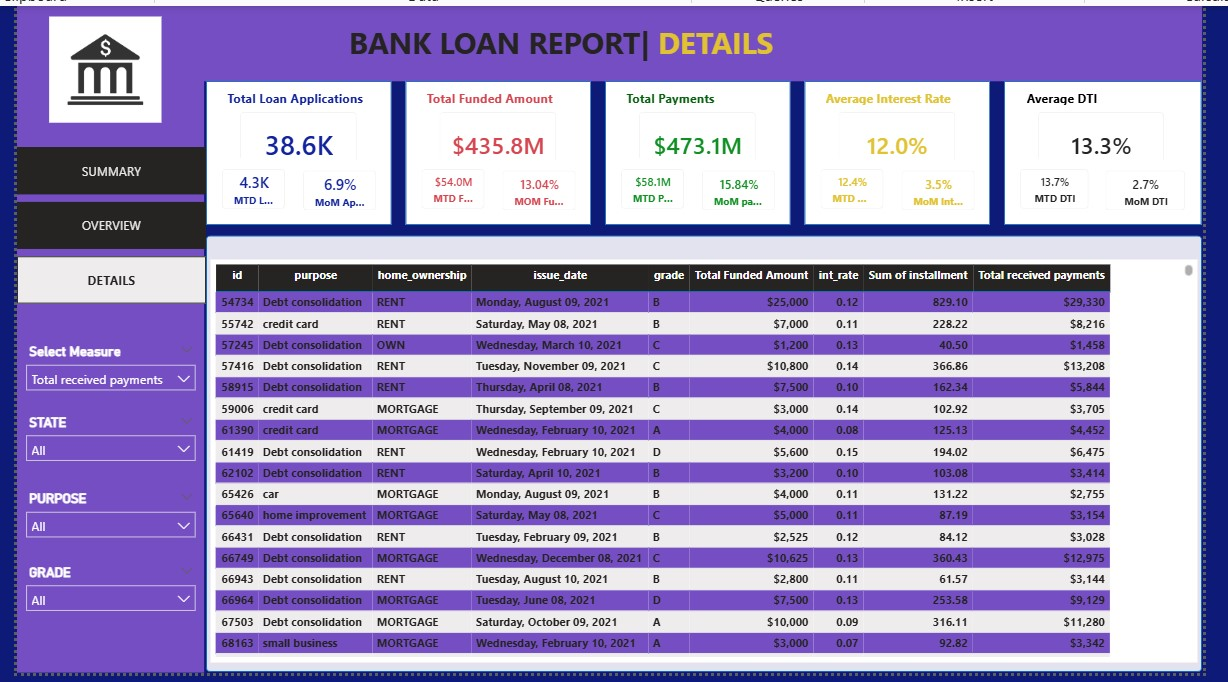

What the dashboard file says about the page in this screenshot:
{"tool":"powerbi","page":{"name":"DETAILS","canvas":[1280,720],"ordinal":2},"visuals":[{"type":"shape","box":[0,81.3,202.2,638.7],"z":0},{"type":"cardVisual","fields":{"Data":["ANALYSIS.Total Loan Apps"]},"box":[222.9,98,160.6,101],"z":0,"group":"g3"},{"type":"cardVisual","fields":{"Data":["ANALYSIS.Total Funded Amount"]},"box":[438.3,98,160.6,101],"z":0,"group":"g4"},{"type":"cardVisual","fields":{"Data":["ANALYSIS.Total received payments"]},"box":[653.6,98,160.6,101],"z":0,"group":"g5"},{"type":"cardVisual","fields":{"Data":["ANALYSIS.AVERAGE Interest Rate"]},"box":[869,98,160.6,101],"z":0,"group":"g6"},{"type":"cardVisual","fields":{"Data":["ANALYSIS.Average Dti"]},"box":[1085.6,98,171,101],"z":0,"group":"g7"},{"type":"shape","box":[0,0,1279.4,81.3],"z":1000},{"type":"textbox","box":[222,84.7,166.8,28],"z":1000,"group":"g3"},{"type":"textbox","box":[437.4,84.7,166.8,28],"z":1000,"group":"g4"},{"type":"textbox","box":[652.7,84.7,166.8,28],"z":1000,"group":"g5"},{"type":"textbox","box":[868.1,84.7,166.8,28],"z":1000,"group":"g6"},{"type":"textbox","box":[1084.7,84.7,177.5,28],"z":1000,"group":"g7"},{"type":"textbox","box":[353.4,11.3,521.6,60.5],"z":2000},{"type":"cardVisual","fields":{"Data":["ANALYSIS.MTD Loan Apps"]},"box":[204.2,159.2,102,77.2],"z":2000,"group":"g3"},{"type":"cardVisual","fields":{"Data":["ANALYSIS.MTD Funded Amount"]},"box":[419.6,159.2,102,77.2],"z":2000,"group":"g4"},{"type":"cardVisual","fields":{"Data":["ANALYSIS.MTD Payments"]},"box":[634.9,159.2,102,77.2],"z":2000,"group":"g5"},{"type":"cardVisual","fields":{"Data":["ANALYSIS.MTD Avg Interest"]},"box":[850.3,159.2,102,77.2],"z":2000,"group":"g6"},{"type":"cardVisual","fields":{"Data":["ANALYSIS.MTD DTI"]},"box":[1065.7,159.2,108.6,77.2],"z":2000,"group":"g7"},{"type":"group","id":"g1","title":"Group 2","box":[204,81,200.8,157.1],"z":3000},{"type":"shape","box":[204,81,200.3,155.3],"z":3000,"group":"g1"},{"type":"shape","box":[419.4,81,200.3,155.3],"z":3000,"group":"g2"},{"type":"shape","box":[634.7,81,200.3,155.3],"z":3000,"group":"g8"},{"type":"shape","box":[850.1,81,200.3,155.3],"z":3000,"group":"g9"},{"type":"shape","box":[1065.5,81,213.2,155.3],"z":3000,"group":"g10"},{"type":"cardVisual","fields":{"Data":["ANALYSIS.MoM Apps"]},"box":[291.6,160.6,113.3,77.2],"z":3000,"group":"g3"},{"type":"cardVisual","fields":{"Data":["ANALYSIS.MOM Funded Amount"]},"box":[507,160.6,113.3,77.2],"z":3000,"group":"g4"},{"type":"cardVisual","fields":{"Data":["ANALYSIS.MoM payments"]},"box":[722.3,160.6,113.3,77.2],"z":3000,"group":"g5"},{"type":"cardVisual","fields":{"Data":["ANALYSIS.MoM Interest Rate"]},"box":[937.7,160.6,113.3,77.2],"z":3000,"group":"g6"},{"type":"cardVisual","fields":{"Data":["ANALYSIS.MoM DTI"]},"box":[1158.8,160.6,120.7,77.2],"z":3000,"group":"g7"},{"type":"group","id":"g2","title":"Group 2","box":[419.4,81,200.8,157.1],"z":4000},{"type":"group","id":"g3","title":"Group 1","box":[204.2,84.7,200.8,153.1],"z":4005,"group":"g1"},{"type":"group","id":"g4","title":"Group 1","box":[419.6,84.7,200.8,153.1],"z":4005,"group":"g2"},{"type":"group","id":"g5","title":"Group 1","box":[634.9,84.7,200.8,153.1],"z":4005,"group":"g8"},{"type":"group","id":"g6","title":"Group 1","box":[850.3,84.7,200.8,153.1],"z":4005,"group":"g9"},{"type":"group","id":"g7","title":"Group 1","box":[1065.7,84.7,213.7,153.1],"z":4005,"group":"g10"},{"type":"group","id":"g8","title":"Group 2","box":[634.7,81,200.8,157.1],"z":5000},{"type":"group","id":"g9","title":"Group 2","box":[850.1,81,200.8,157.1],"z":6000},{"type":"group","id":"g10","title":"Group 2","box":[1065.5,81,213.7,157.1],"z":7000},{"type":"slicer","fields":{"Values":["loan.address_state"]},"box":[0,435.6,202.4,61.5],"z":8000},{"type":"slicer","fields":{"Values":["loan.grade"]},"box":[0,597.5,202.4,61.5],"z":9000},{"type":"slicer","fields":{"Values":["loan.purpose"]},"box":[0,518.2,202.4,61.5],"z":10000},{"type":"shape","box":[204,247.7,1075.2,471.2],"z":11000},{"type":"slicer","fields":{"Values":["Select Measure.Select Measure"]},"box":[0,359.5,202.4,74.5],"z":13000},{"type":"tableEx","fields":{"Values":["loan.id","loan.purpose","loan.home_ownership","loan.issue_date","loan.grade","ANALYSIS.Total Funded Amount","loan.int_rate","Sum(loan.installment)","ANALYSIS.Total received payments"]},"box":[208.9,273.6,1065.5,434],"z":13001},{"type":"image","box":[0,11.3,191.1,115],"z":13002},{"type":"pageNavigator","box":[0,152.2,204,171.6],"z":13003}]}

Visuals, with their boxes on the page's 1280x720 design canvas (x1, y1, x2, y2). These are canvas units, not pixel positions in the 1228x682 screenshot, which may show the page scaled, cropped or inside an application window:
shape: Rect(0, 81, 202, 720)
cardVisual - ANALYSIS.Total Loan Apps: Rect(223, 98, 384, 199)
cardVisual - ANALYSIS.Total Funded Amount: Rect(438, 98, 599, 199)
cardVisual - ANALYSIS.Total received payments: Rect(654, 98, 814, 199)
cardVisual - ANALYSIS.AVERAGE Interest Rate: Rect(869, 98, 1030, 199)
cardVisual - ANALYSIS.Average Dti: Rect(1086, 98, 1257, 199)
shape: Rect(0, 0, 1279, 81)
textbox: Rect(222, 85, 389, 113)
textbox: Rect(437, 85, 604, 113)
textbox: Rect(653, 85, 820, 113)
textbox: Rect(868, 85, 1035, 113)
textbox: Rect(1085, 85, 1262, 113)
textbox: Rect(353, 11, 875, 72)
cardVisual - ANALYSIS.MTD Loan Apps: Rect(204, 159, 306, 236)
cardVisual - ANALYSIS.MTD Funded Amount: Rect(420, 159, 522, 236)
cardVisual - ANALYSIS.MTD Payments: Rect(635, 159, 737, 236)
cardVisual - ANALYSIS.MTD Avg Interest: Rect(850, 159, 952, 236)
cardVisual - ANALYSIS.MTD DTI: Rect(1066, 159, 1174, 236)
"Group 2" group: Rect(204, 81, 405, 238)
shape: Rect(204, 81, 404, 236)
shape: Rect(419, 81, 620, 236)
shape: Rect(635, 81, 835, 236)
shape: Rect(850, 81, 1050, 236)
shape: Rect(1066, 81, 1279, 236)
cardVisual - ANALYSIS.MoM Apps: Rect(292, 161, 405, 238)
cardVisual - ANALYSIS.MOM Funded Amount: Rect(507, 161, 620, 238)
cardVisual - ANALYSIS.MoM payments: Rect(722, 161, 836, 238)
cardVisual - ANALYSIS.MoM Interest Rate: Rect(938, 161, 1051, 238)
cardVisual - ANALYSIS.MoM DTI: Rect(1159, 161, 1280, 238)
"Group 2" group: Rect(419, 81, 620, 238)
"Group 1" group: Rect(204, 85, 405, 238)
"Group 1" group: Rect(420, 85, 620, 238)
"Group 1" group: Rect(635, 85, 836, 238)
"Group 1" group: Rect(850, 85, 1051, 238)
"Group 1" group: Rect(1066, 85, 1279, 238)
"Group 2" group: Rect(635, 81, 836, 238)
"Group 2" group: Rect(850, 81, 1051, 238)
"Group 2" group: Rect(1066, 81, 1279, 238)
slicer - loan.address_state: Rect(0, 436, 202, 497)
slicer - loan.grade: Rect(0, 598, 202, 659)
slicer - loan.purpose: Rect(0, 518, 202, 580)
shape: Rect(204, 248, 1279, 719)
slicer - Select Measure.Select Measure: Rect(0, 360, 202, 434)
tableEx - loan.id x loan.purpose: Rect(209, 274, 1274, 708)
image: Rect(0, 11, 191, 126)
pageNavigator: Rect(0, 152, 204, 324)
